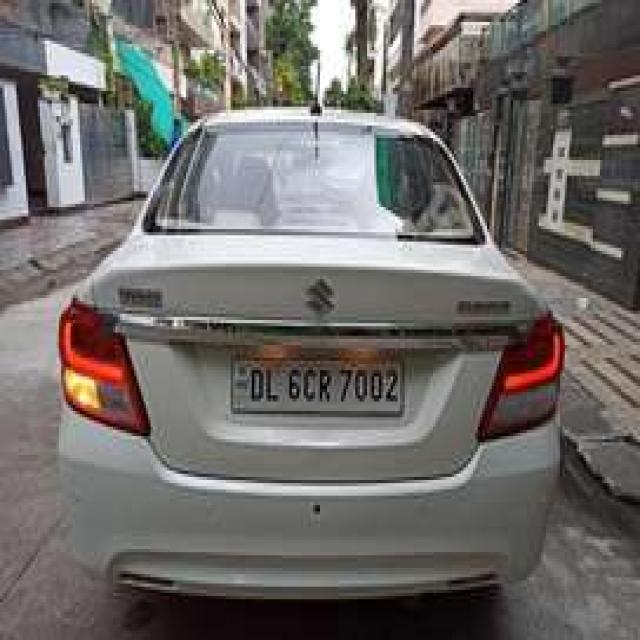Plate: (225, 355, 401, 409)
